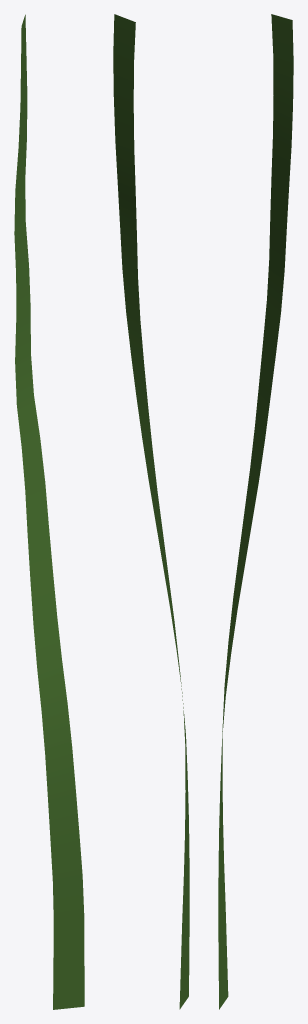
The model's file is plant_swamp_kelp_giant_A_solo_D.fbx.
The picture shows the model from 3 angles, left to right: view 1: azimuth 90°, elevation 25°; view 2: azimuth 150°, elevation 25°; view 3: azimuth 330°, elevation 25°; orthographic projection. The views are drawn at different scales.
Visible parts, largest first — view 1: plant_swamp_kelp_giant_A_solo_D; view 2: plant_swamp_kelp_giant_A_solo_D; view 3: plant_swamp_kelp_giant_A_solo_D.
Boxes of the visible parts, x1,y1,x2,y2 form: plant_swamp_kelp_giant_A_solo_D: [14, 14, 84, 1009]; plant_swamp_kelp_giant_A_solo_D: [113, 14, 189, 1009]; plant_swamp_kelp_giant_A_solo_D: [218, 14, 293, 1009].
Bounding box in the file's own units: 27.85 × 422 × 27.61.
